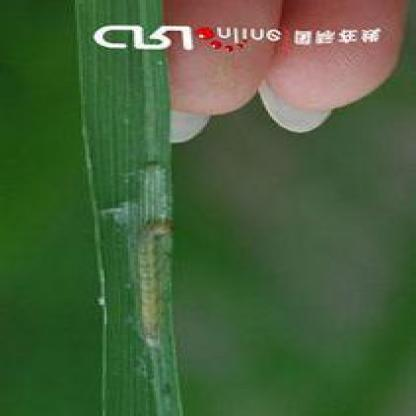leaf-folder: (100, 213, 222, 382)
